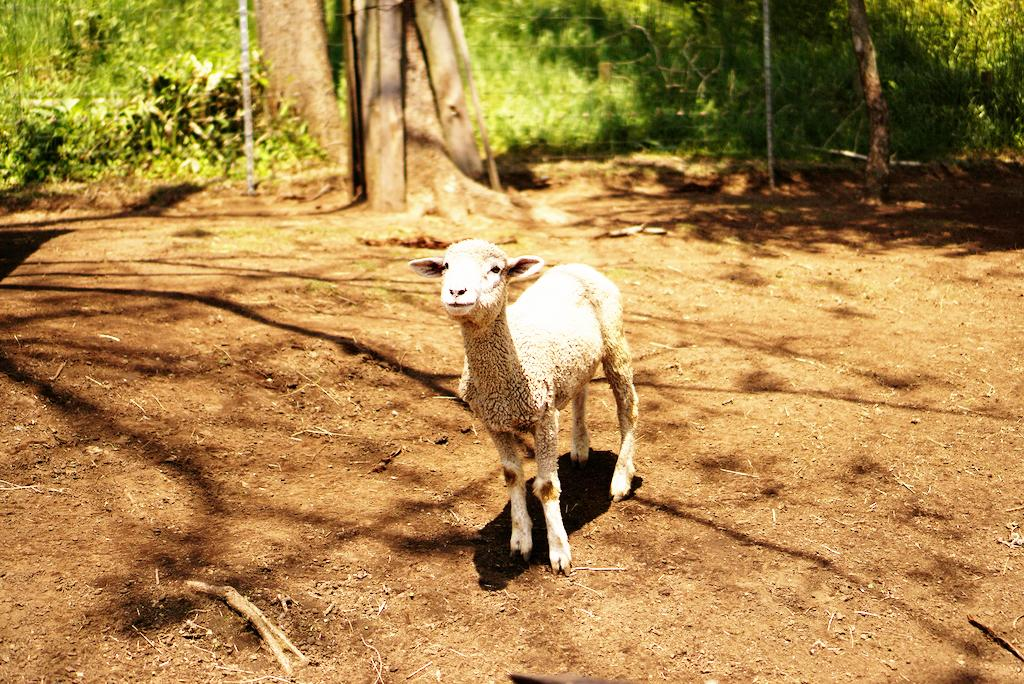Sheep: (409, 238, 637, 577)
